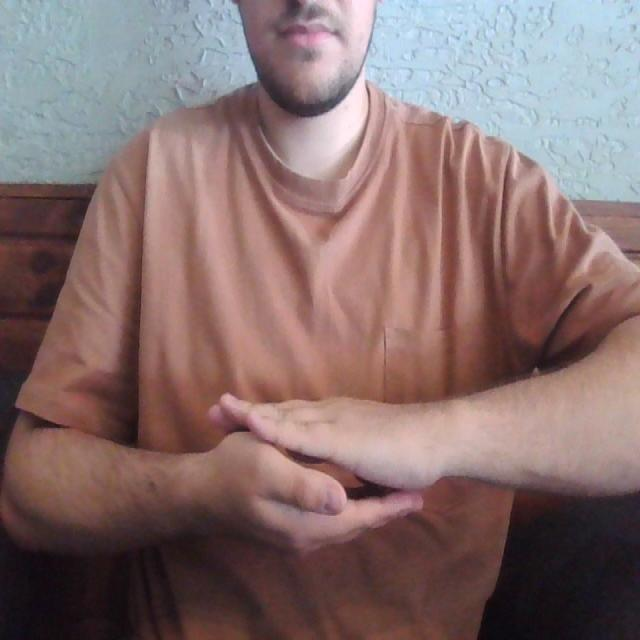Arkadas: (127, 382, 527, 586)
